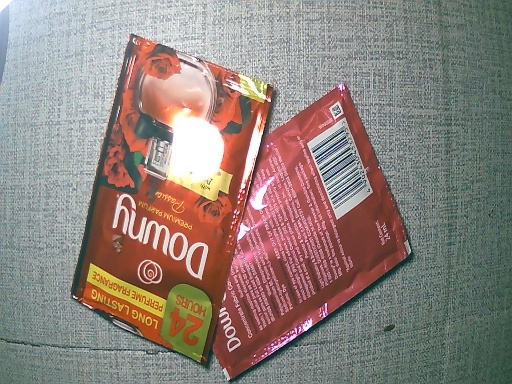plastic: (69, 31, 270, 380), (202, 79, 410, 383)
